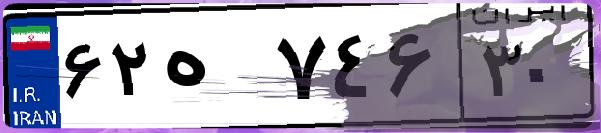0: (525, 38, 570, 115)
2: (110, 28, 158, 98)
3: (475, 38, 525, 113)
4: (330, 28, 385, 110)
6: (385, 28, 445, 110), (57, 26, 110, 100)
7: (270, 28, 330, 110)
ه: (158, 20, 270, 120)
